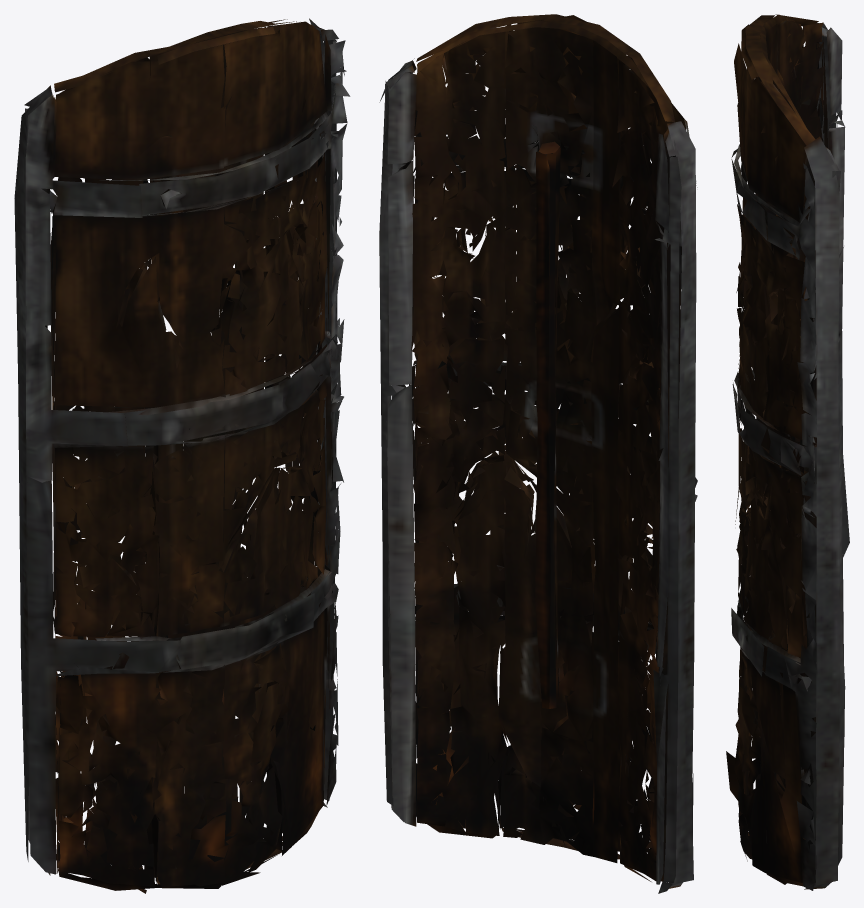
File: tower-shield-8k-v2.glb
3 renders of one model, left to right at view 1: azimuth 30°, elevation 25°; view 2: azimuth 150°, elevation 25°; view 3: azimuth 270°, elevation 25°, orthographic. The views are drawn at different scales.
Parts seen in each view (by area): view 1: tower-shield-8k-v2; view 2: tower-shield-8k-v2; view 3: tower-shield-8k-v2.
Part boxes in pixels (<box>): tower-shield-8k-v2: <box>14,18,350,893</box>; tower-shield-8k-v2: <box>379,14,697,893</box>; tower-shield-8k-v2: <box>726,14,849,890</box>.
Bounding box in the file's own units: 0.3834 × 0.9848 × 0.1357.
Materials: 1 (1 with a texture image).
